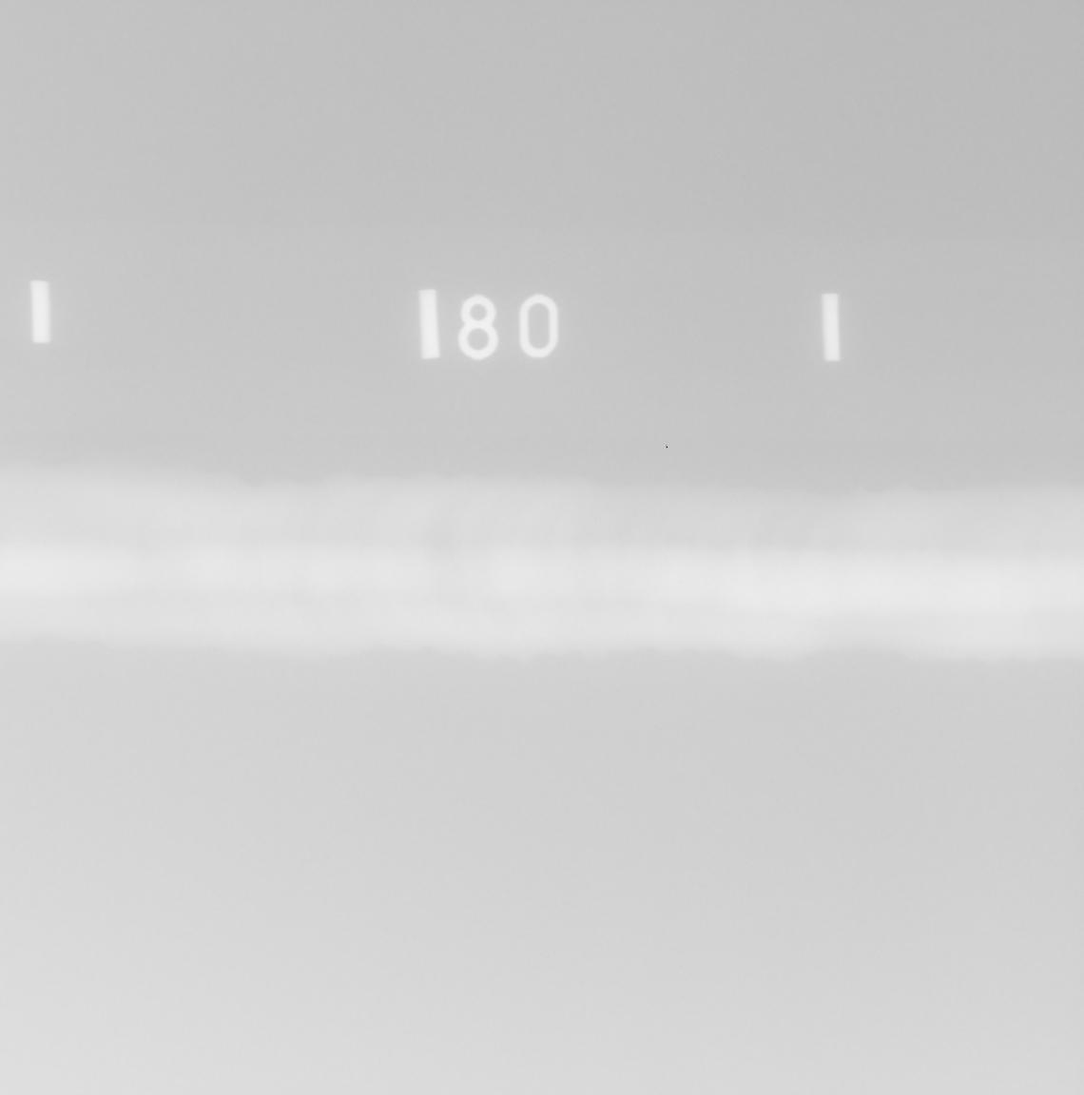Pore/Porosity: (918, 546, 924, 553), (452, 564, 458, 569), (677, 579, 683, 584)
